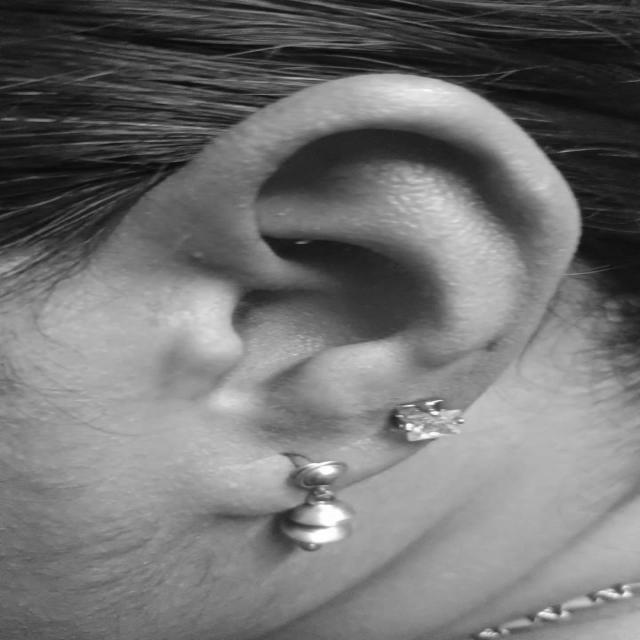ear: (111, 74, 579, 514), (157, 314, 163, 321), (164, 300, 170, 304), (212, 496, 214, 501), (222, 508, 222, 510)
